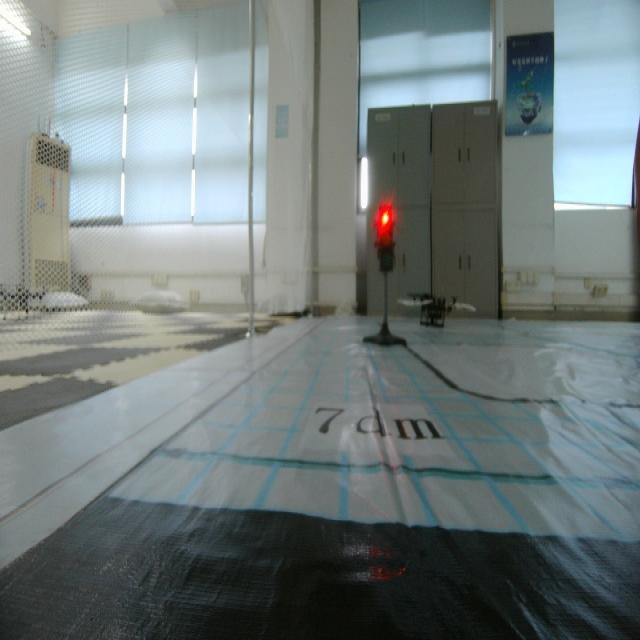red: (371, 201, 397, 281)
